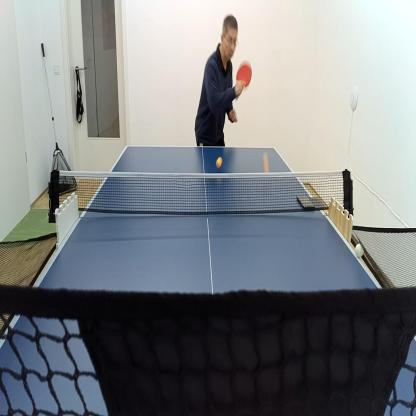Ball: (355, 243, 363, 259), (263, 153, 269, 172), (216, 157, 222, 167)
